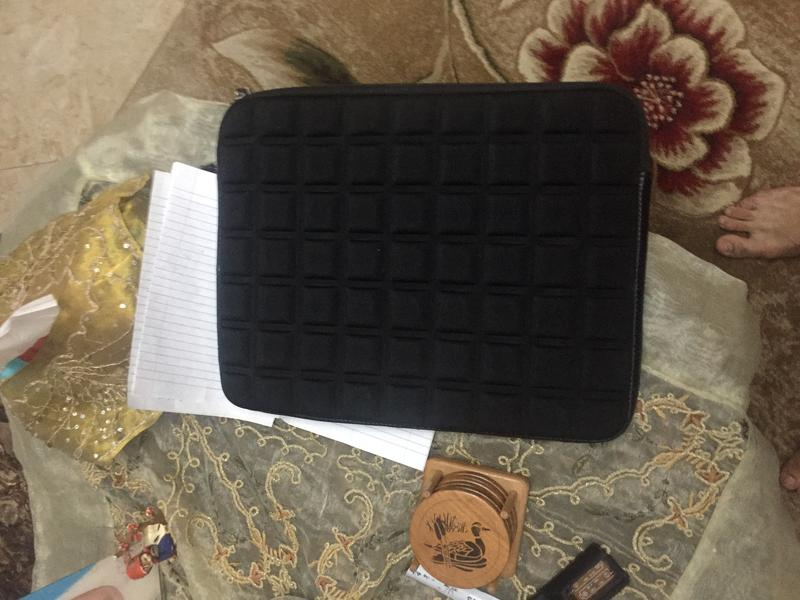cover: (210, 79, 655, 450)
